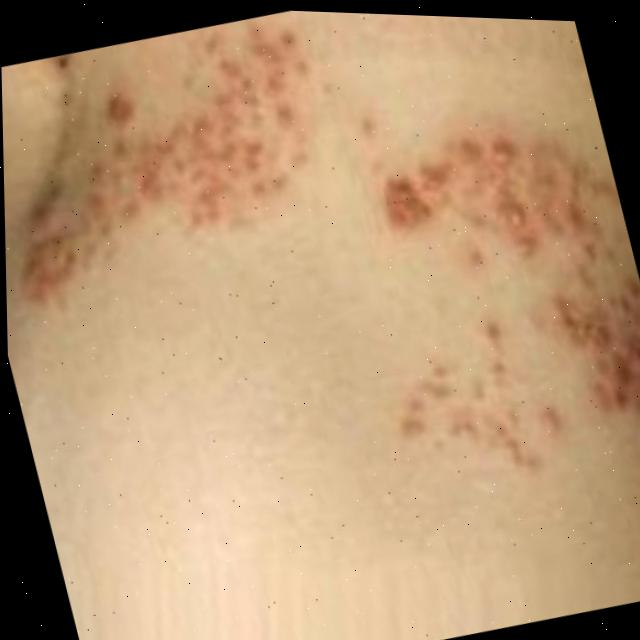Shingles: (332, 97, 640, 525), (0, 0, 352, 322)
